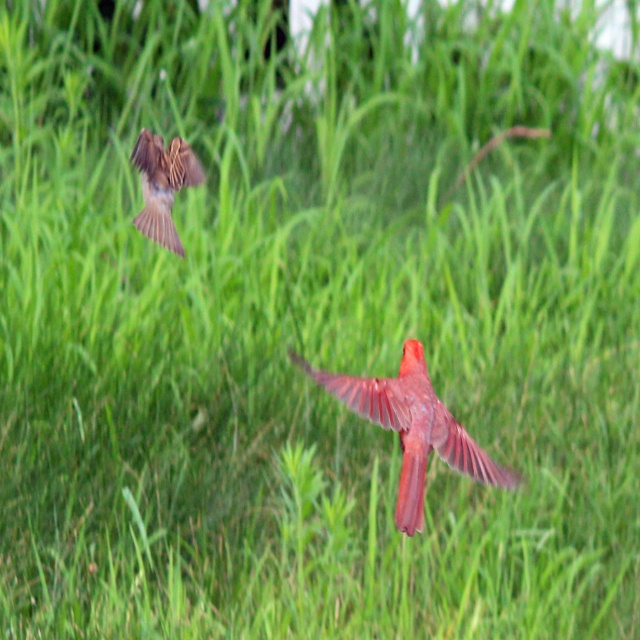Sparrow: (289, 338, 518, 535), (127, 125, 207, 252)
